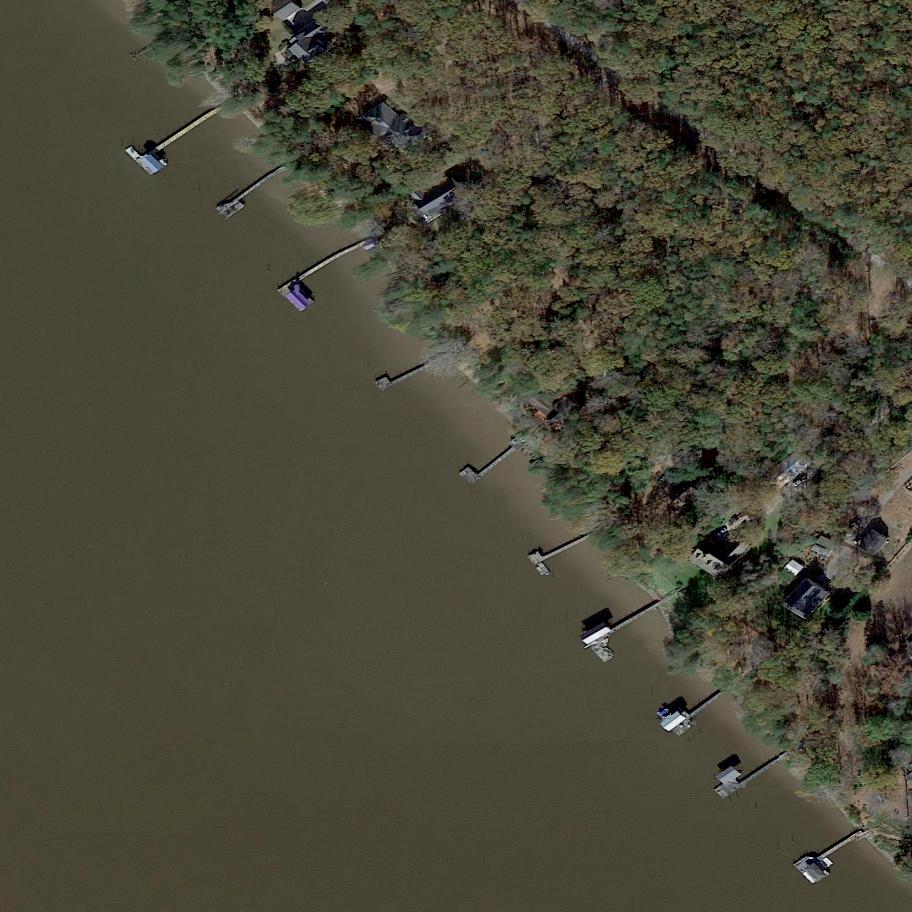ship: (657, 708, 672, 720)
